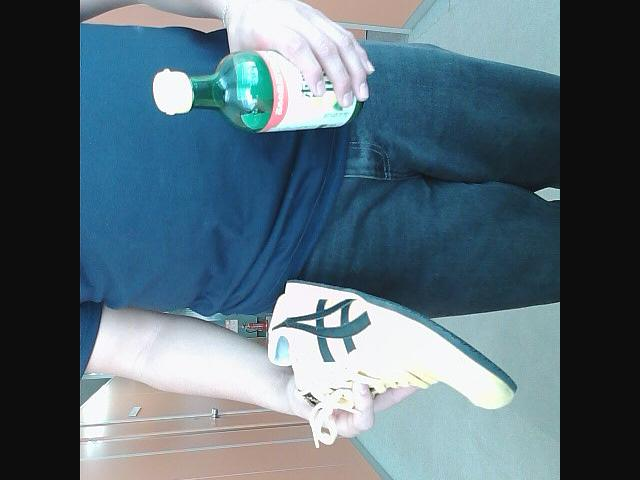Lemon_sapporo: (150, 42, 377, 138)
Shoes: (261, 280, 514, 412)
